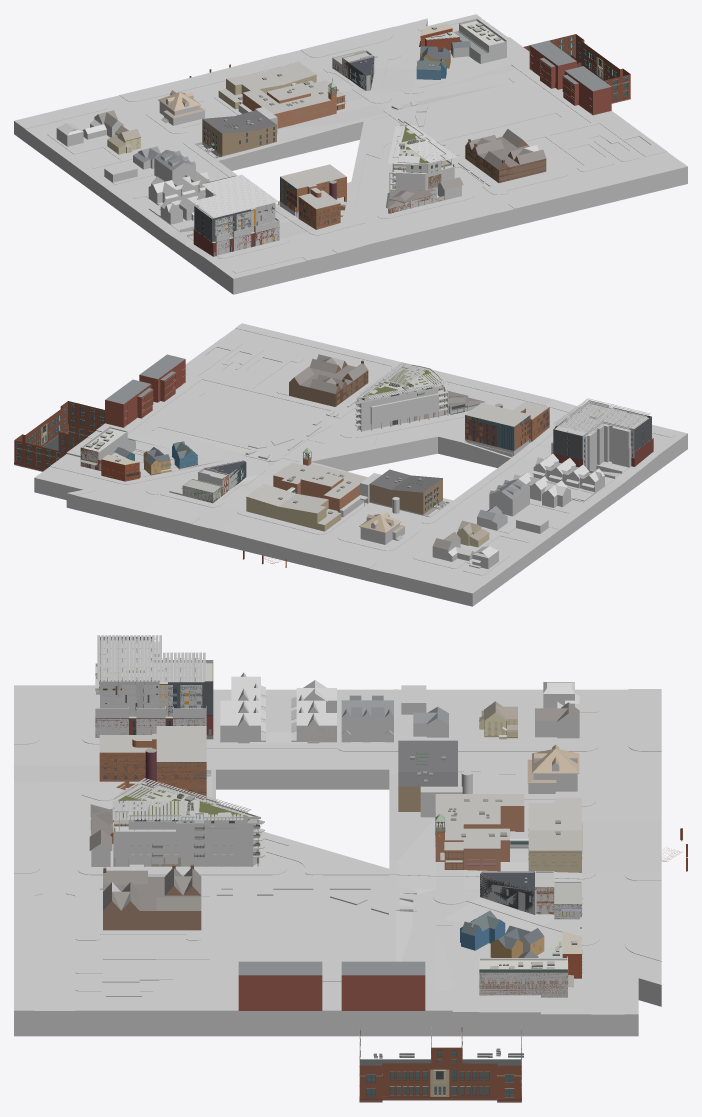
File: urban-core-materials.glb
The picture shows the model from 3 angles, top to bottom: view 1: azimuth 30°, elevation 25°; view 2: azimuth 150°, elevation 25°; view 3: azimuth 270°, elevation 25°; orthographic projection. The views are drawn at different scales.
Parts seen in each view (by area): view 1: Original Rhino ground solids, Original context surface, Roof #cfcdc8, Archived original · 330 Detroit · Original context surface, Detroit Street · surveyed original roof surfaces, Archived source · Dunbar Tower, Kerrytown architecture · surveyed solid, Roof #999490, Dunbar Tower · native panels · Rhino context material, Roof #96999d, Facade #A15E50, BLD-017809 · surveyed detail #935d49 (+13 smaller); view 2: Original Rhino ground solids, Original context surface, Roof #cfcdc8, Archived original · 330 Detroit · Original context surface, Archived source · Dunbar Tower, BLD-017809 · surveyed detail #935d49, Kerrytown architecture · surveyed solid, Detroit Street · surveyed original roof surfaces, Dunbar Tower · native panels · Rhino context material, Roof #96999d, Roof #999490, Facade #A15E50 (+18 smaller); view 3: Original Rhino ground solids, Original context surface, Archived original · 330 Detroit · Original context surface, Roof #cfcdc8, Facade #A15E50, Archived source · Dunbar Tower, Archived facade · Original context surface, BLD-017809 · surveyed detail #935d49, Roof #999490, Detroit Street · surveyed original roof surfaces, Dunbar Tower · native panels · Rhino context material, Kerrytown architecture · surveyed solid (+17 smaller).
Boxes of the visible parts, box(x1,y1,x2,y2) form: Original Rhino ground solids: box(14, 14, 687, 294); Original context surface: box(56, 18, 591, 224); Roof #cfcdc8: box(219, 61, 346, 209); Archived original · 330 Detroit · Original context surface: box(388, 124, 456, 194); Detroit Street · surveyed original roof surfaces: box(332, 18, 506, 75); Archived source · Dunbar Tower: box(195, 188, 279, 255); Kerrytown architecture · surveyed solid: box(125, 36, 574, 213); Roof #999490: box(98, 110, 546, 195); Dunbar Tower · native panels · Rhino context material: box(193, 174, 278, 217); Roof #96999d: box(133, 40, 611, 170); Facade #A15E50: box(529, 45, 611, 115); BLD-017809 · surveyed detail #935d49: box(523, 34, 630, 103); Original Rhino ground solids: box(34, 323, 687, 606); Original context surface: box(81, 357, 604, 569); Roof #cfcdc8: box(246, 401, 548, 524); Archived original · 330 Detroit · Original context surface: box(355, 362, 448, 431); Archived source · Dunbar Tower: box(551, 408, 648, 472); BLD-017809 · surveyed detail #935d49: box(14, 401, 104, 471); Kerrytown architecture · surveyed solid: box(80, 371, 480, 503); Detroit Street · surveyed original roof surfaces: box(81, 426, 245, 492); Dunbar Tower · native panels · Rhino context material: box(552, 398, 650, 433); Roof #96999d: box(105, 354, 529, 523); Roof #999490: box(294, 354, 460, 549); Facade #A15E50: box(105, 359, 185, 427); Original Rhino ground solids: box(14, 685, 661, 1036); Original context surface: box(90, 672, 580, 960); Archived original · 330 Detroit · Original context surface: box(112, 778, 264, 866); Roof #cfcdc8: box(99, 726, 581, 850); Facade #A15E50: box(238, 975, 425, 1010); Archived source · Dunbar Tower: box(95, 641, 206, 737); Archived facade · Original context surface: box(291, 719, 581, 997); BLD-017809 · surveyed detail #935d49: box(359, 1027, 521, 1101); Roof #999490: box(89, 702, 579, 910); Detroit Street · surveyed original roof surfaces: box(461, 871, 581, 969); Dunbar Tower · native panels · Rhino context material: box(97, 635, 205, 681); Kerrytown architecture · surveyed solid: box(91, 709, 582, 997).
Size of the model in its own units: 293 by 38.84 by 225.
